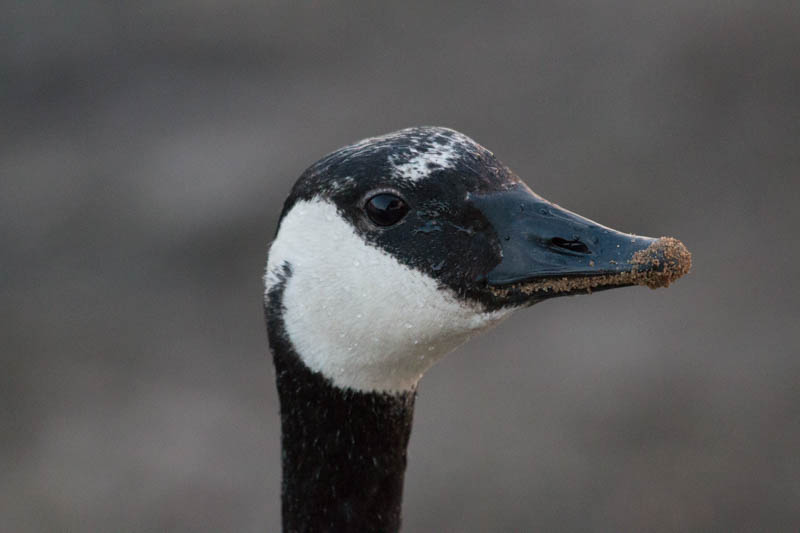goose-head: (264, 126, 693, 396)
